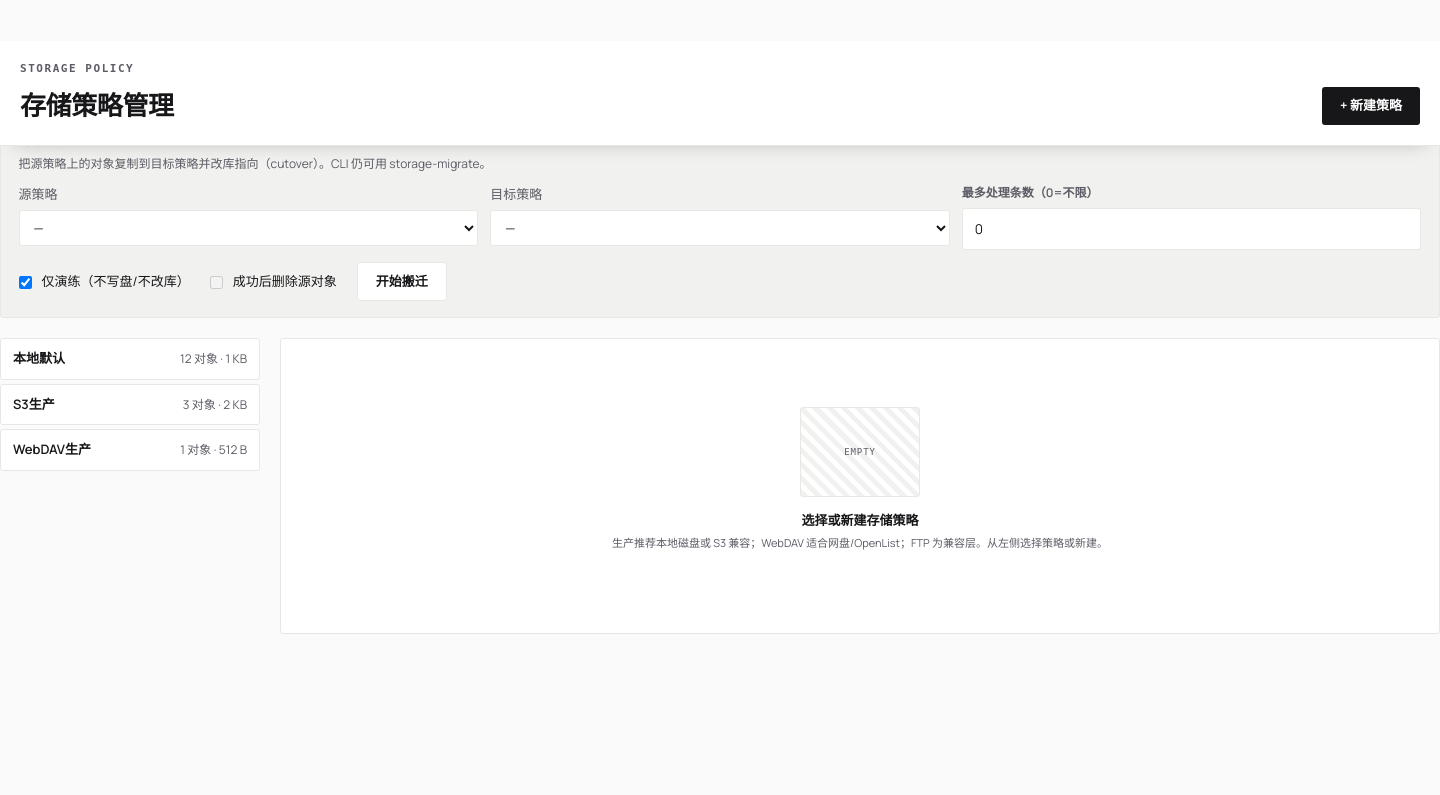
Test: 测试连接:回显延迟
This screenshot has width=1440, height=795.
Click the text "本地默认": x=39, y=359 [13, 349, 65, 369]
(page scrolled)
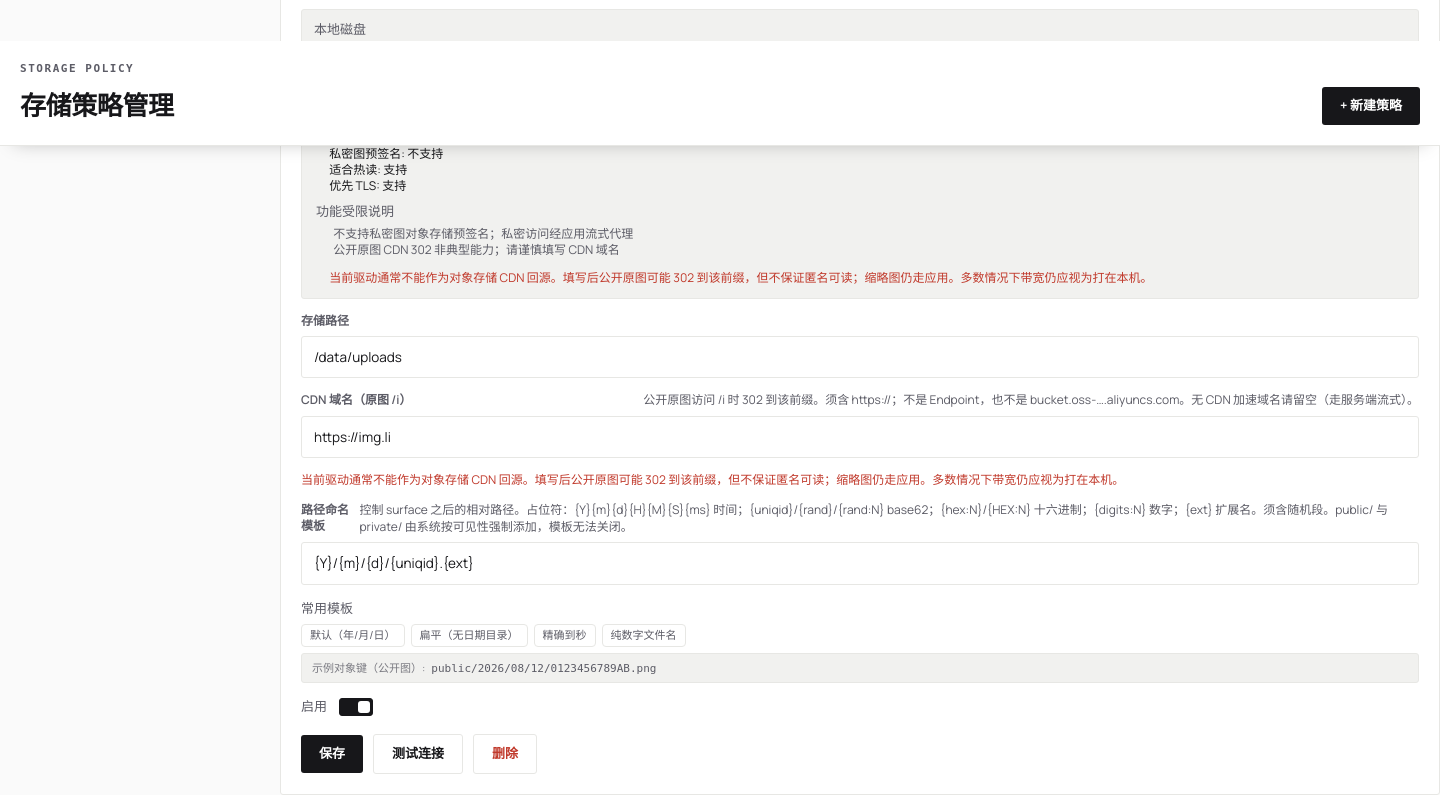
Click the button "测试连接": x=418, y=754 [373, 734, 463, 774]
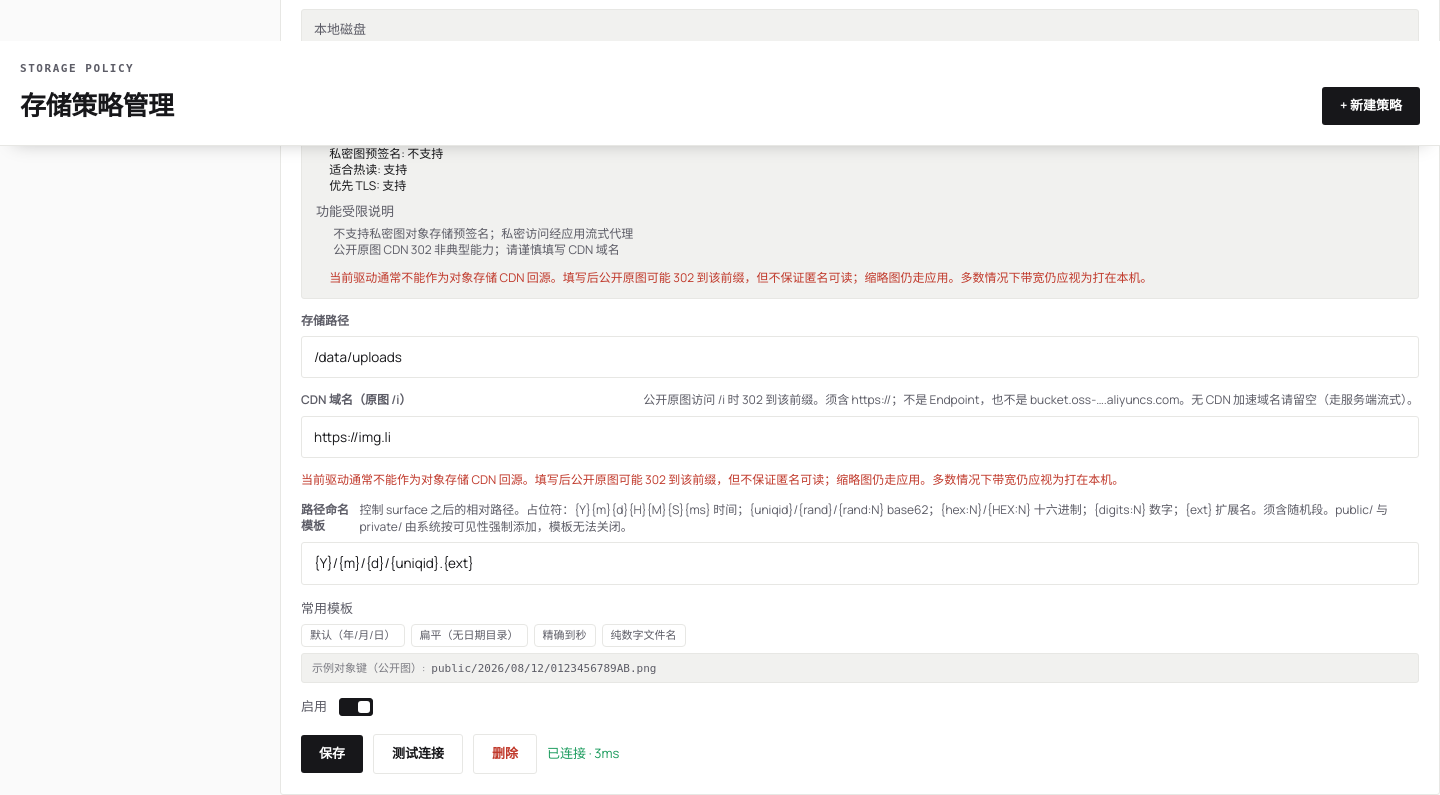
Expected: the text "已连接 · 3ms" is shown, [547, 744, 619, 764]
